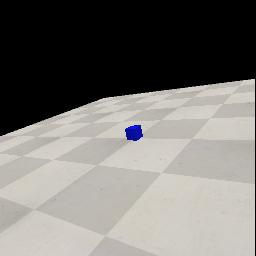box: (125, 125, 143, 141)
